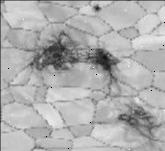good_void: (27, 30, 121, 80), (117, 98, 162, 143), (91, 4, 101, 13)
